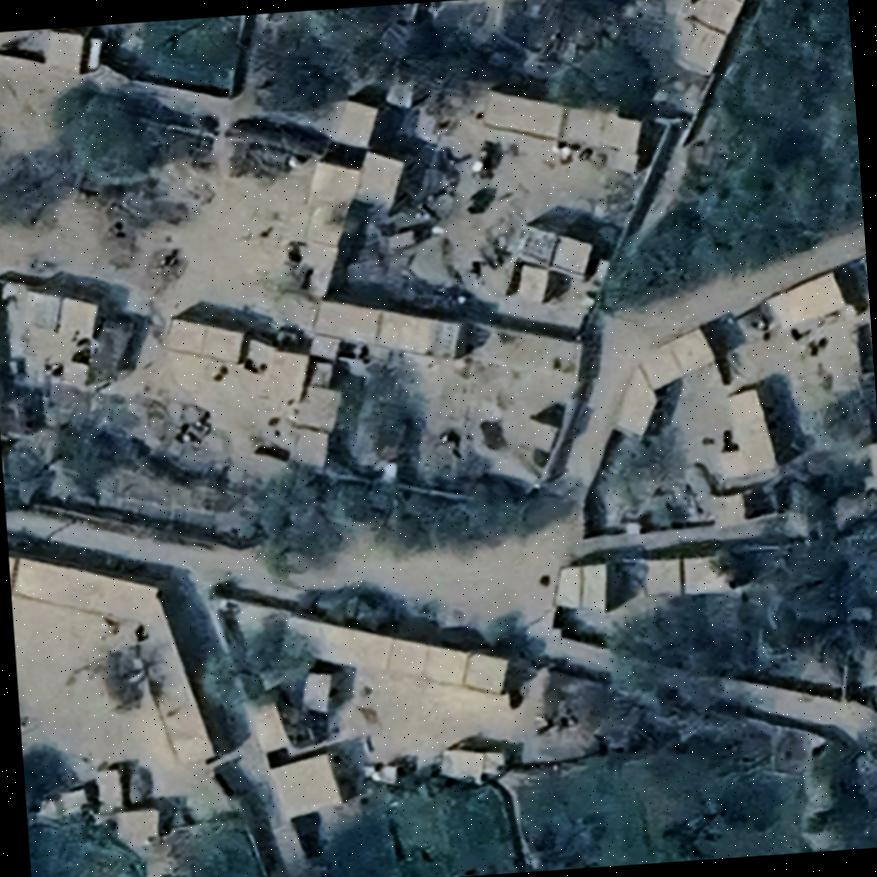Solarpanel: (517, 225, 558, 265), (428, 317, 459, 358)
